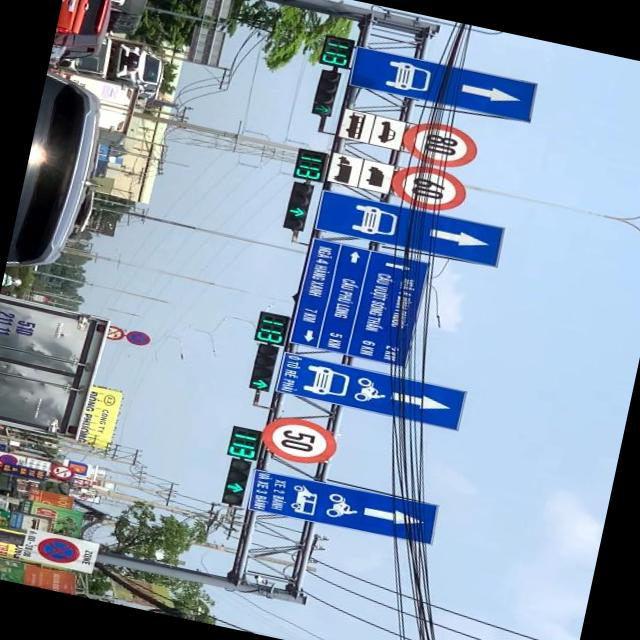P-127: (258, 412, 338, 470)
